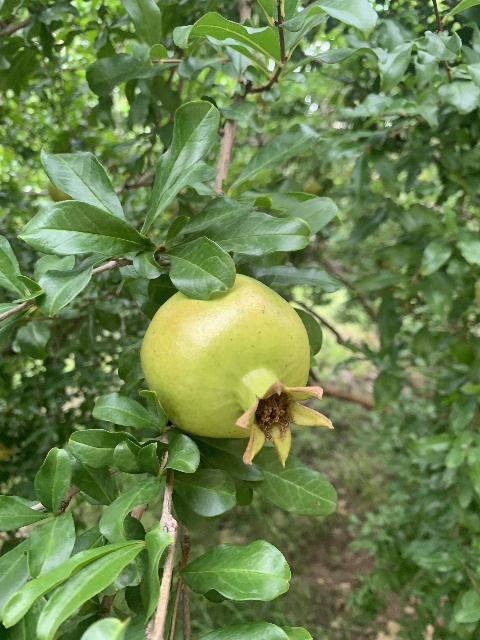mid-growth: (139, 273, 333, 470)
